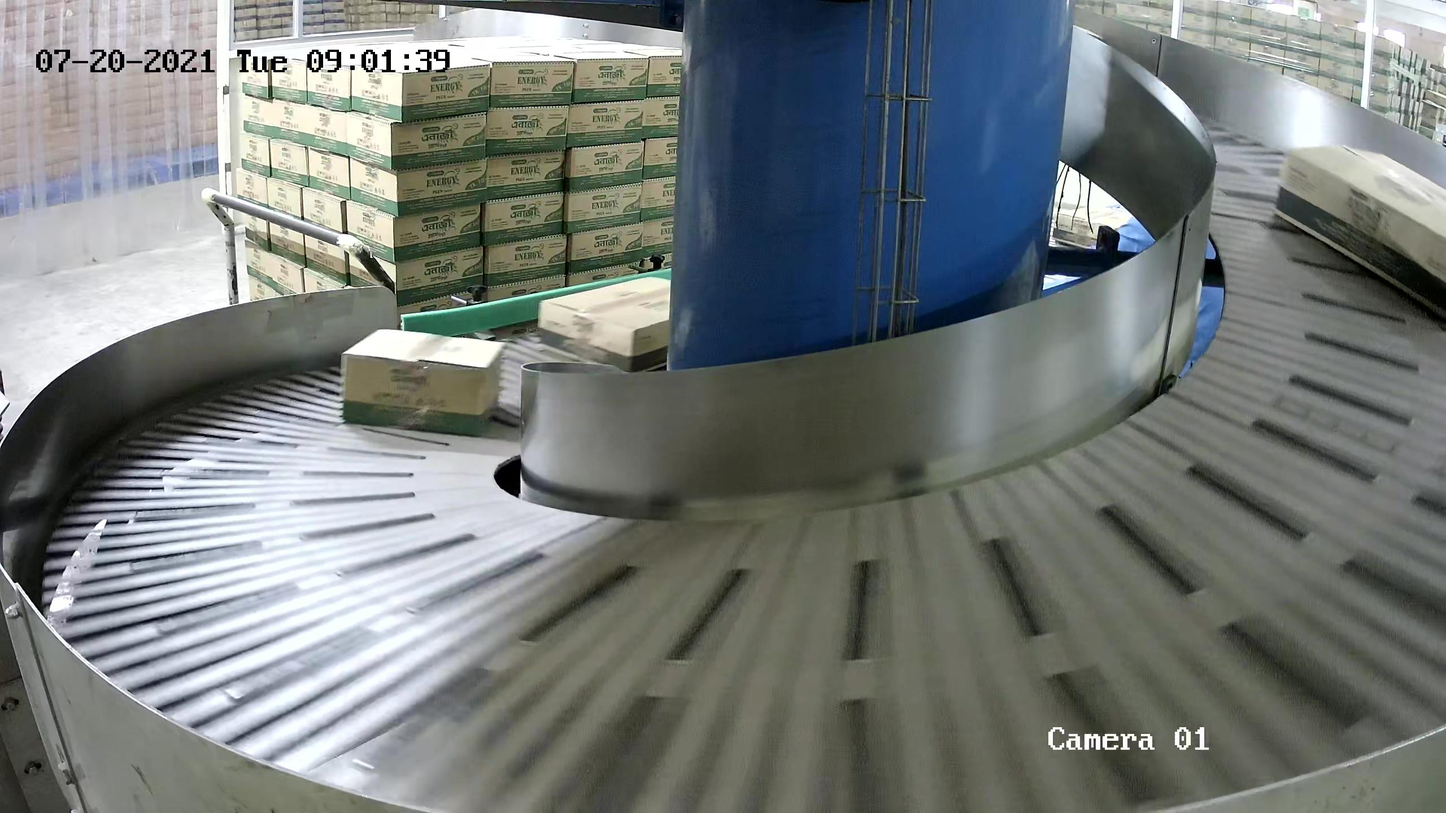Box: (1274, 145, 1446, 323), (538, 275, 720, 375), (339, 328, 505, 437)
